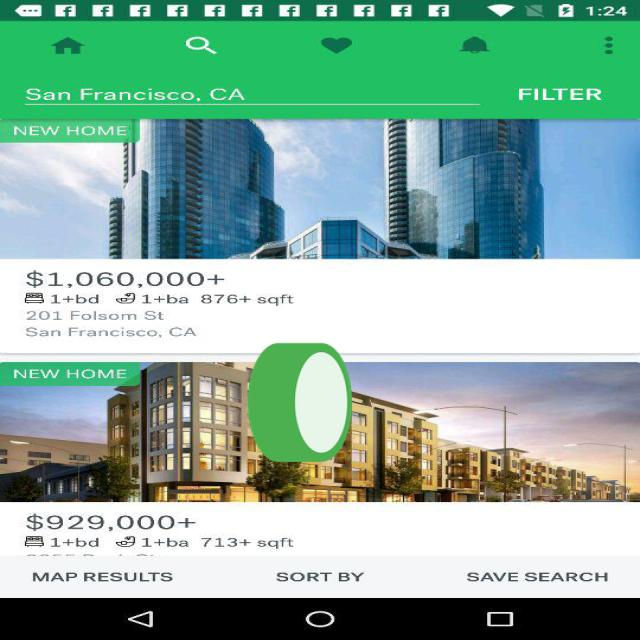social proof: (243, 297, 357, 517)
